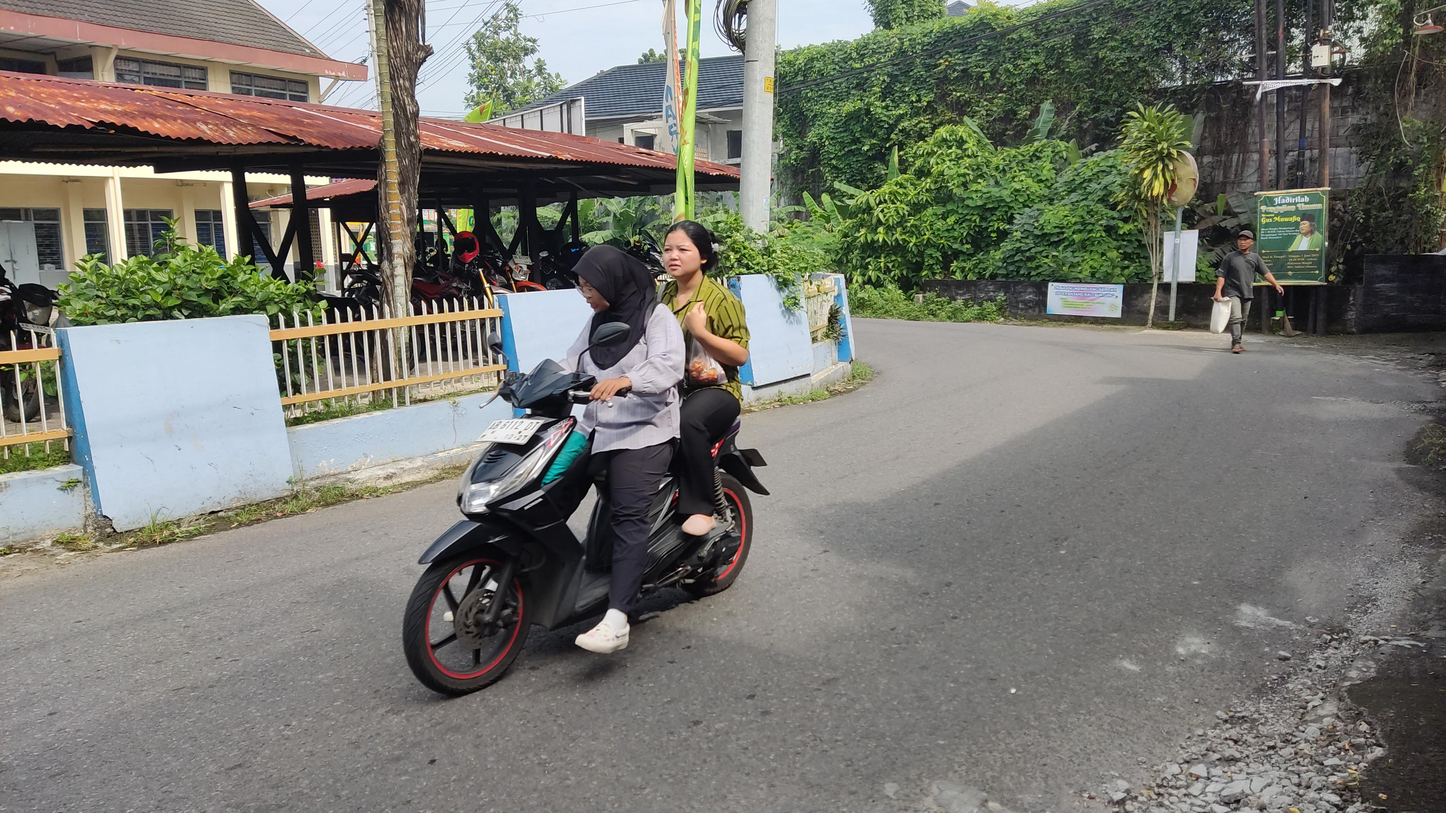nohelm: (567, 240, 658, 314), (661, 218, 725, 284)
riding: (398, 218, 776, 700)
